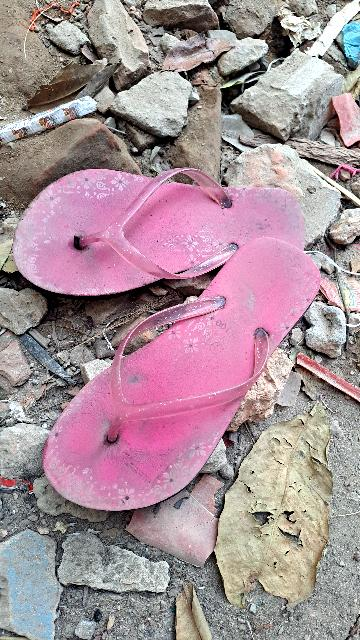sandal: (27, 206, 345, 546), (4, 154, 303, 298)
